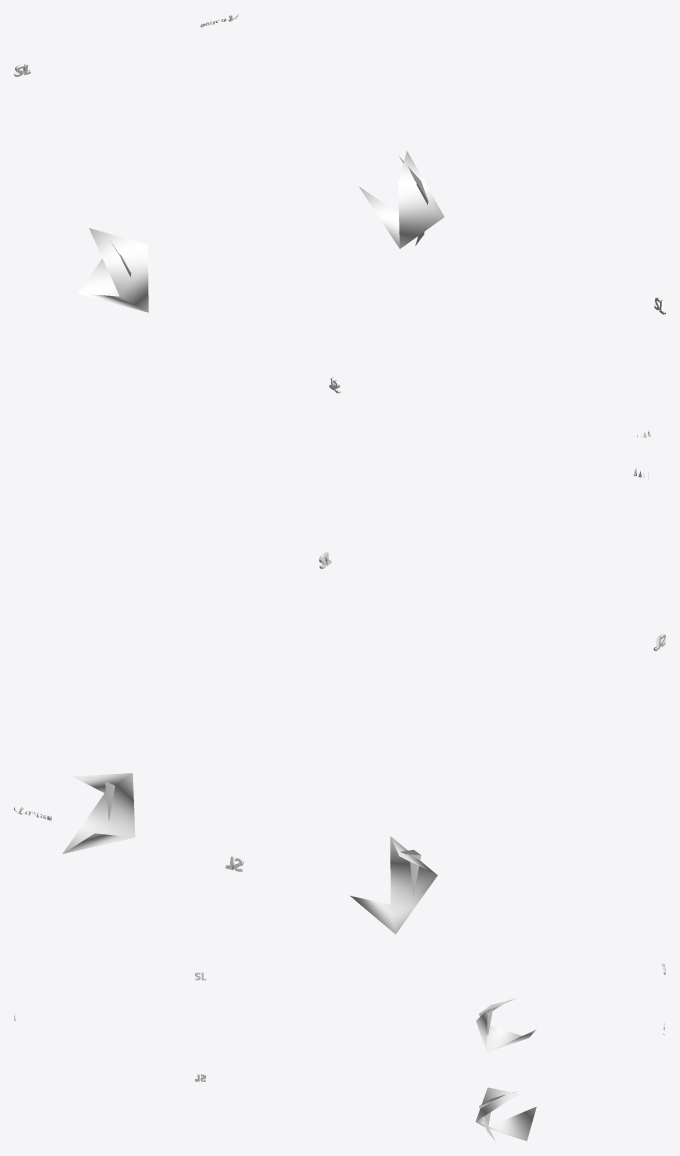
3 renders of one model, top to bottom at view 1: azimuth 30°, elevation 25°; view 2: azimuth 150°, elevation 25°; view 3: azimuth 270°, elevation 25°, orthographic. The views are drawn at different scales.
Bounding box in the file's own units: 1.51 × 0.6564 × 4.05.
1 material, 1 textured.
